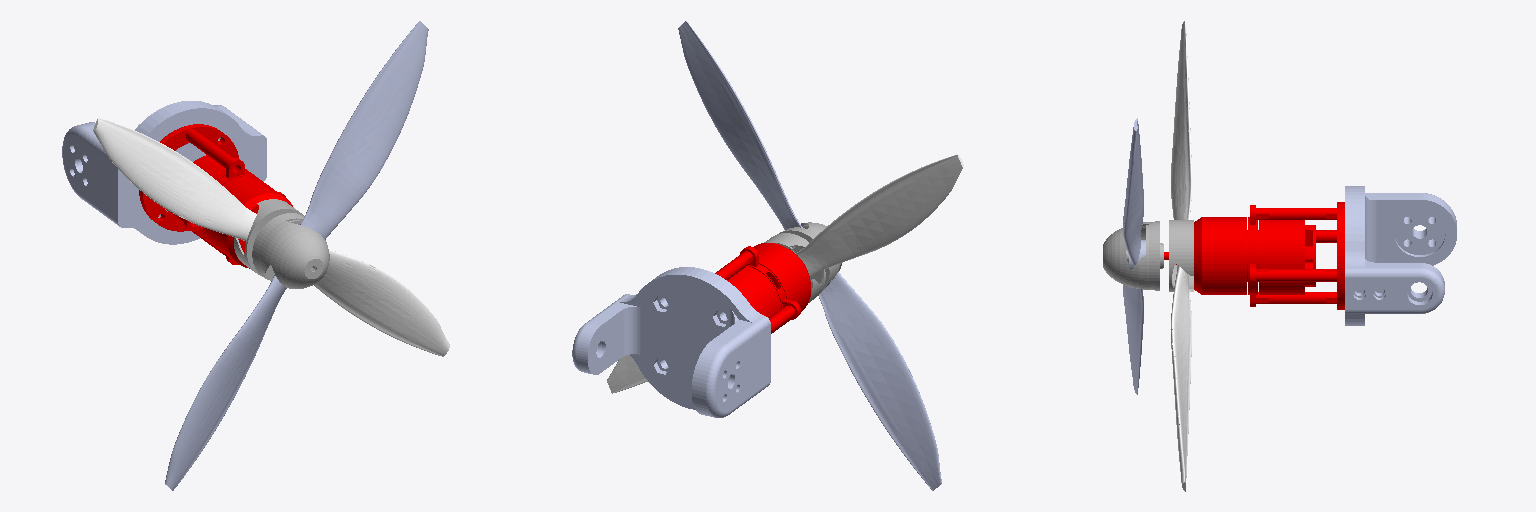
robot.urdf — proppulsion_assembly:
<!--URDF generated by ONSHAPE BY PTC INC, 1.216-->
<robot name="proppulsion_assembly">
    <link name="root">
        <visual>
            <origin xyz="0.0425161 -0.0106859 0.026534" rpy="0 1.5708 -3.14159" />
            <geometry>
                <mesh filename="package://proppulsion_assembly/meshes/Extension_rods.stl" scale="1 1 1" />
            </geometry>
            <material name="1.000000_0.000000_0.000000_0.000000_0.000000">
                <color rgba="1 0 0 1" />
            </material>
        </visual>
        <visual>
            <origin xyz="0.0241298 -0.0714291 0.0264133" rpy="1.32618e-13 -0.856889 -3.14159" />
            <geometry>
                <mesh filename="package://proppulsion_assembly/meshes/CW_8038_propeller.stl" scale="1 1 1" />
            </geometry>
            <material name="0.796078_0.823529_0.937255_0.000000_0.000000">
                <texture />
                <color rgba="0.796078 0.823529 0.937255 1" />
            </material>
        </visual>
        <visual>
            <origin xyz="0.0240161 -0.0106859 0.00803398" rpy="0 6.8605e-15 3.14159" />
            <geometry>
                <mesh filename="package://proppulsion_assembly/meshes/Extension_rods.stl" scale="1 1 1" />
            </geometry>
            <material name="1.000000_0.000000_0.000000_0.000000_0.000000">
                <texture />
                <color rgba="1 0 0 1" />
            </material>
        </visual>
        <visual>
            <origin xyz="0.0240161 -0.0654359 0.026534" rpy="0 1.19823 3.14159" />
            <geometry>
                <mesh filename="package://proppulsion_assembly/meshes/Propeller_2_base.stl" scale="1 1 1" />
            </geometry>
            <material name="0.752941_0.752941_0.752941_0.000000_0.000000">
                <texture />
                <color rgba="0.752941 0.752941 0.752941 1" />
            </material>
        </visual>
        <visual>
            <origin xyz="0.0240161 -0.0641359 0.026534" rpy="-3.14159 1.29015 5.2232e-16" />
            <geometry>
                <mesh filename="package://proppulsion_assembly/meshes/Cone_screw.stl" scale="1 1 1" />
            </geometry>
            <material name="0.752941_0.752941_0.752941_0.000000_0.000000">
                <texture />
                <color rgba="0.752941 0.752941 0.752941 1" />
            </material>
        </visual>
        <visual>
            <origin xyz="0.0240161 0.00821406 0.026534" rpy="0 1.5708 -3.14159" />
            <geometry>
                <mesh filename="package://proppulsion_assembly/meshes/Base_ring.stl" scale="1 1 1" />
            </geometry>
            <material name="1.000000_0.000000_0.000000_0.000000_0.000000">
                <texture />
                <color rgba="1 0 0 1" />
            </material>
        </visual>
        <visual>
            <origin xyz="0.0055161 -0.0106859 0.026534" rpy="0 -1.5708 3.14159" />
            <geometry>
                <mesh filename="package://proppulsion_assembly/meshes/Extension_rods.stl" scale="1 1 1" />
            </geometry>
            <material name="1.000000_0.000000_0.000000_0.000000_0.000000">
                <texture />
                <color rgba="1 0 0 1" />
            </material>
        </visual>
        <visual>
            <origin xyz="0.0240161 -0.0518359 0.026534" rpy="0 1.0472 3.14159" />
            <geometry>
                <mesh filename="package://proppulsion_assembly/meshes/Propeller_1_cover.stl" scale="1 1 1" />
            </geometry>
            <material name="0.752941_0.752941_0.752941_0.000000_0.000000">
                <texture />
                <color rgba="0.752941 0.752941 0.752941 1" />
            </material>
        </visual>
        <visual>
            <origin xyz="0.0295699 -0.0522359 0.0294657" rpy="0 1.13557 3.14159" />
            <geometry>
                <mesh filename="package://proppulsion_assembly/meshes/CCW_8038_propeller.stl" scale="1 1 1" />
            </geometry>
            <material name="1.000000_1.000000_1.000000_0.000000_0.000000">
                <texture />
                <color rgba="1 1 1 1" />
            </material>
        </visual>
        <visual>
            <origin xyz="0.0240161 -0.0106859 0.045034" rpy="3.14159 1.22465e-16 0" />
            <geometry>
                <mesh filename="package://proppulsion_assembly/meshes/Extension_rods.stl" scale="1 1 1" />
            </geometry>
            <material name="1.000000_0.000000_0.000000_0.000000_0.000000">
                <texture />
                <color rgba="1 0 0 1" />
            </material>
        </visual>
        <visual>
            <origin xyz="0.0240161 -0.0281859 0.026534" rpy="0 1.5708 -3.14159" />
            <geometry>
                <mesh filename="package://proppulsion_assembly/meshes/CRM2413.stl" scale="1 1 1" />
            </geometry>
            <material name="1.000000_0.000000_0.000000_0.000000_0.000000">
                <texture />
                <color rgba="1 0 0 1" />
            </material>
        </visual>
        <visual>
            <origin xyz="0.0240161 -0.0281859 0.026534" rpy="0 1.5708 -3.14159" />
            <geometry>
                <mesh filename="package://proppulsion_assembly/meshes/CRM2413_1.stl" scale="1 1 1" />
            </geometry>
            <material name="1.000000_0.000000_0.000000_0.000000_0.000000">
                <texture />
                <color rgba="1 0 0 1" />
            </material>
        </visual>
        <visual>
            <origin xyz="0.0240161 -0.0281859 0.026534" rpy="0 1.5708 -3.14159" />
            <geometry>
                <mesh filename="package://proppulsion_assembly/meshes/CRM2413_2.stl" scale="1 1 1" />
            </geometry>
            <material name="1.000000_0.000000_0.000000_0.000000_0.000000">
                <texture />
                <color rgba="1 0 0 1" />
            </material>
        </visual>
        <visual>
            <origin xyz="0.0240161 -0.0281859 0.026534" rpy="0 1.5708 -3.14159" />
            <geometry>
                <mesh filename="package://proppulsion_assembly/meshes/CRM2413_3.stl" scale="1 1 1" />
            </geometry>
            <material name="1.000000_0.000000_0.000000_0.000000_0.000000">
                <texture />
                <color rgba="1 0 0 1" />
            </material>
        </visual>
        <visual>
            <origin xyz="0.0240161 -0.0699359 0.026534" rpy="3.14159 0.708028 0" />
            <geometry>
                <mesh filename="package://proppulsion_assembly/meshes/Propeller_2_cover.stl" scale="1 1 1" />
            </geometry>
            <material name="0.752941_0.752941_0.752941_0.000000_0.000000">
                <texture />
                <color rgba="0.752941 0.752941 0.752941 1" />
            </material>
        </visual>
        <visual>
            <origin xyz="0.0230861 0.00821406 0.026234" rpy="0 -0 0" />
            <geometry>
                <mesh filename="package://proppulsion_assembly/meshes/Motor_Stand.stl" scale="1 1 1" />
            </geometry>
            <material name="0.796078_0.823529_0.937255_0.000000_0.000000">
                <texture />
                <color rgba="0.796078 0.823529 0.937255 1" />
            </material>
        </visual>
    </link>
</robot>

--- Render facts (derived) ---
Views: 3 orthographic renders of the robot side by side, from view 1: azimuth 30°, elevation 25°; view 2: azimuth 150°, elevation 25°; view 3: azimuth 270°, elevation 25°.
Model proppulsion_assembly with 1 links and 0 joints (none), rooted at root, posed all joints at 0.
Links seen in each view (by area): view 1: root; view 2: root; view 3: root.
Link boxes in pixels (x1=…): root: x1=62, y1=21, x2=449, y2=490; root: x1=572, y1=21, x2=963, y2=490; root: x1=1103, y1=20, x2=1456, y2=491.
Size in the robot's own frame: 0.157 by 0.1416 by 0.173 metres.
16 mesh visuals loaded from 13 distinct referenced files (13 binary STL).
